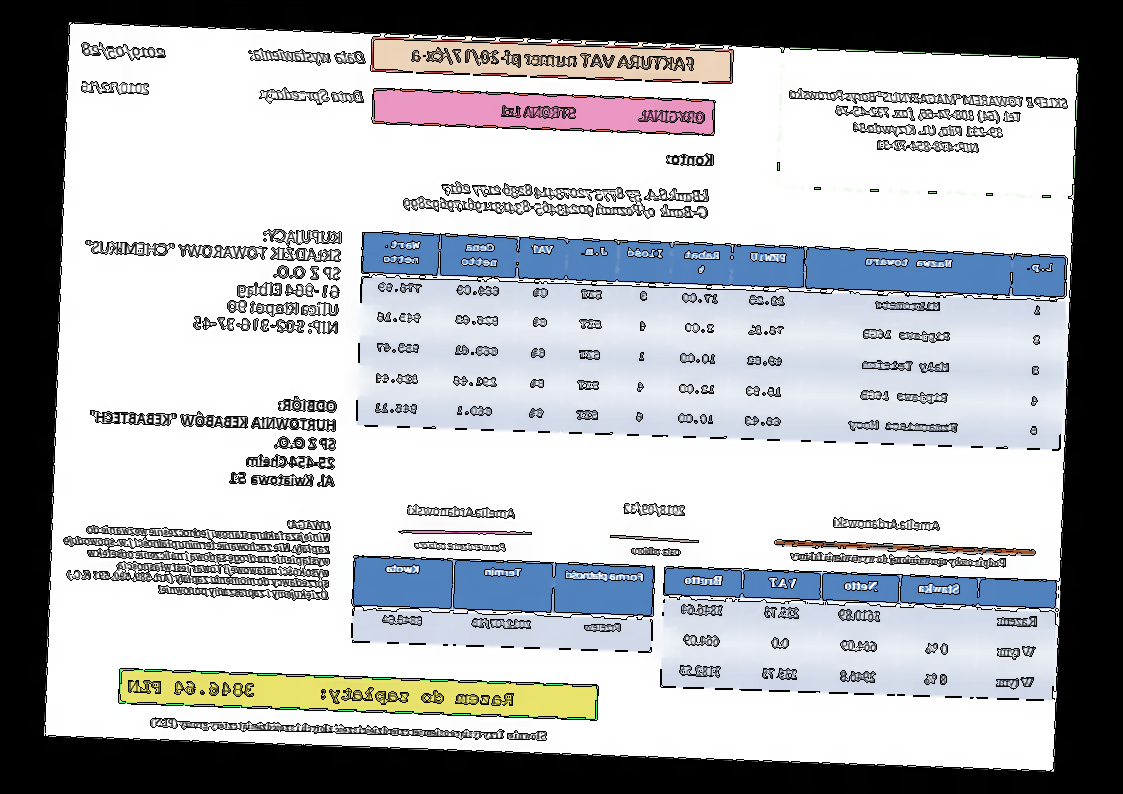Table: (355, 230, 1069, 451), (661, 565, 1059, 701), (351, 555, 656, 653)
TextBox: (80, 219, 345, 337), (84, 388, 339, 490), (60, 509, 333, 601), (786, 85, 1070, 158), (400, 177, 712, 223), (126, 677, 517, 711), (150, 715, 549, 743), (409, 44, 696, 75), (499, 102, 706, 126), (790, 548, 1008, 570), (248, 43, 367, 69), (256, 85, 366, 106), (832, 515, 941, 534), (80, 40, 168, 63), (407, 503, 517, 520), (413, 538, 508, 554), (80, 79, 152, 96), (623, 501, 687, 518), (666, 149, 716, 169), (632, 544, 683, 558)
